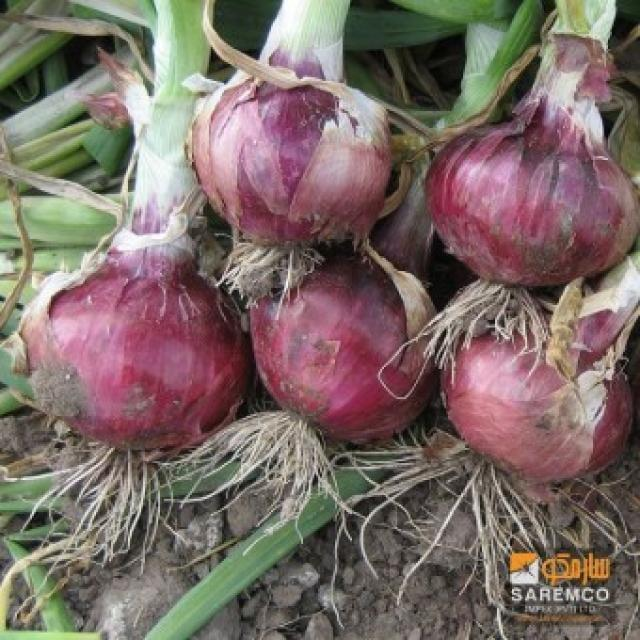Onion: (165, 45, 400, 264), (18, 234, 244, 452), (438, 286, 640, 491), (241, 254, 451, 448), (446, 82, 633, 280)
